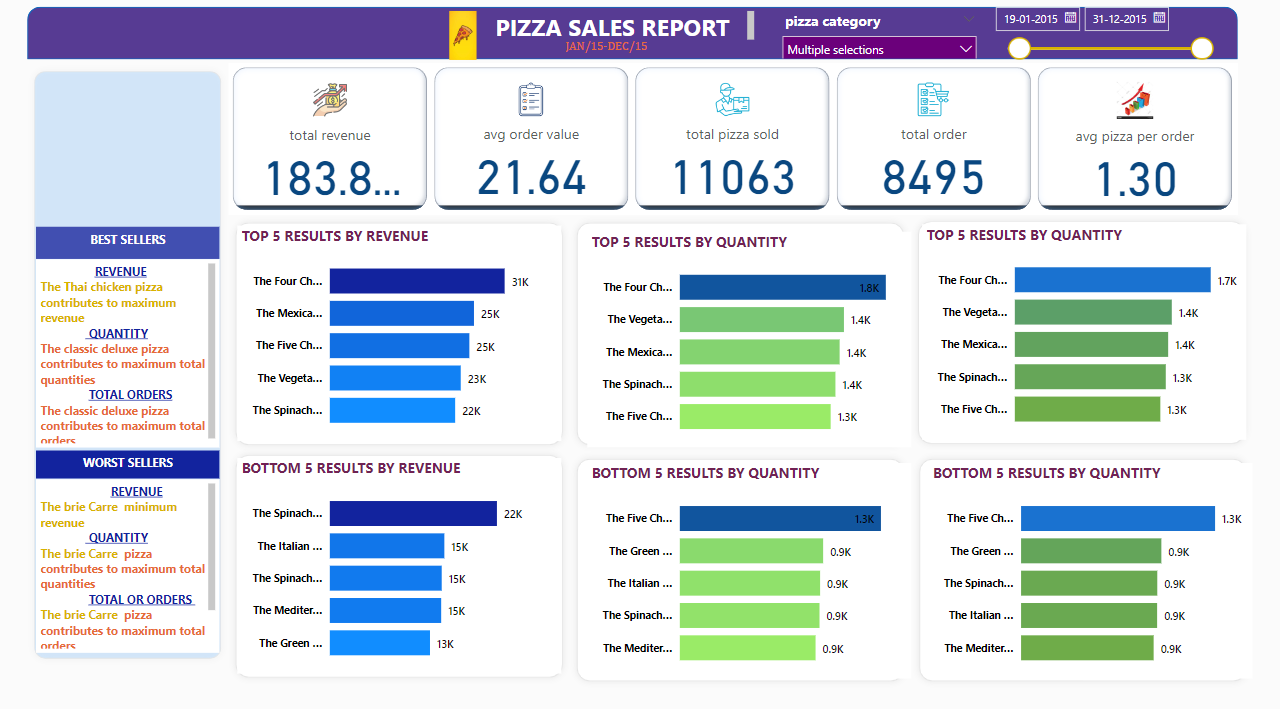

What the dashboard file says about the page in this screenshot:
{"tool":"powerbi","page":{"name":"best/worst sellers ","canvas":[1500,820],"ordinal":1},"visuals":[{"type":"cardVisual","fields":{"Data":["pizza_sales (2).total revenue","pizza_sales (2).avg order value","pizza_sales (2).total pizza sold","pizza_sales (2).total order","pizza_sales (2).avg pizza per order"]},"box":[288.7,74.6,1153.5,173.2],"z":0},{"type":"shape","box":[58.9,9.6,1383.6,60.3],"z":1000},{"type":"textbox","box":[589,9.6,305.5,43.8],"z":2000},{"type":"textbox","box":[668.5,39.7,138.4,30.1],"z":3000},{"type":"image","box":[532.9,9.6,46.6,65.8],"z":4000},{"type":"shape","box":[288.7,247.9,390.1,270.4],"z":5000},{"type":"shape","box":[59.2,76.1,229.6,687.3],"z":6000},{"type":"textbox","box":[69,262,209.9,36.6],"z":7000},{"type":"textbox","box":[69,298.6,209.9,215.5],"z":8000},{"type":"textbox","box":[69,516.9,209.9,32.4],"z":9000},{"type":"textbox","box":[69,549.3,209.9,198.6],"z":10000},{"type":"slicer","fields":{"Values":["pizza_sales (2).pizza_category"]},"box":[911.3,9.9,242.3,59.2],"z":11000},{"type":"slicer","fields":{"Values":["pizza_sales (2).order_date"]},"box":[1153.5,0,269,76.1],"z":12000},{"type":"shape","box":[678.9,247.9,390.1,270.4],"z":13000},{"type":"shape","box":[1069,246.5,390.1,270.4],"z":14000},{"type":"shape","box":[288.7,514.1,390.1,270.4],"z":15000},{"type":"shape","box":[678.9,518.3,390.1,270.4],"z":16000},{"type":"shape","box":[1070.4,518.3,390.1,270.4],"z":17000},{"type":"barChart","title":"TOP 5 RESULTS BY REVENUE","fields":{"Category":["pizza_sales (2).pizza_name"],"Y":["pizza_sales (2).total revenue"]},"box":[298.6,260.6,370.4,246.5],"z":18000},{"type":"barChart","title":"BOTTOM 5 RESULTS BY REVENUE","fields":{"Category":["pizza_sales (2).pizza_name"],"Y":["pizza_sales (2).total revenue"]},"box":[298.6,525.4,370.4,246.5],"z":19000},{"type":"barChart","title":"TOP 5 RESULTS BY QUANTITY","fields":{"Category":["pizza_sales (2).pizza_name"],"Y":["pizza_sales (2).total pizza sold"]},"box":[698.6,267.6,370.4,246.5],"z":20000},{"type":"barChart","title":"BOTTOM  5 RESULTS BY QUANTITY","fields":{"Category":["pizza_sales (2).pizza_name"],"Y":["pizza_sales (2).total pizza sold"]},"box":[698.6,531,370.4,246.5],"z":21000},{"type":"barChart","title":"TOP 5 RESULTS BY QUANTITY","fields":{"Category":["pizza_sales (2).pizza_name"],"Y":["pizza_sales (2).total order"]},"box":[1081.7,259.2,370.4,246.5],"z":22000},{"type":"barChart","title":"BOTTOM  5 RESULTS BY QUANTITY","fields":{"Category":["pizza_sales (2).pizza_name"],"Y":["pizza_sales (2).total order"]},"box":[1088.7,531,370.4,246.5],"z":23000}]}

Visuals, with their boxes in screenshot pixels (x1, y1, x2, y2), scaled from the page's 1500x820 canvas onto the 1280x709 screenshot:
cardVisual - pizza_sales (2).total revenue x pizza_sales (2).avg order value: (246, 65, 1231, 214)
shape: (50, 8, 1231, 60)
textbox: (503, 8, 763, 46)
textbox: (570, 34, 689, 60)
image: (455, 8, 495, 65)
shape: (246, 214, 579, 448)
shape: (51, 66, 246, 660)
textbox: (59, 227, 238, 258)
textbox: (59, 258, 238, 445)
textbox: (59, 447, 238, 475)
textbox: (59, 475, 238, 647)
slicer - pizza_sales (2).pizza_category: (778, 9, 984, 60)
slicer - pizza_sales (2).order_date: (984, 0, 1214, 66)
shape: (579, 214, 912, 448)
shape: (912, 213, 1245, 447)
shape: (246, 445, 579, 678)
shape: (579, 448, 912, 682)
shape: (913, 448, 1246, 682)
"TOP 5 RESULTS BY REVENUE" barChart: (255, 225, 571, 438)
"BOTTOM 5 RESULTS BY REVENUE" barChart: (255, 454, 571, 667)
"TOP 5 RESULTS BY QUANTITY" barChart: (596, 231, 912, 445)
"BOTTOM  5 RESULTS BY QUANTITY" barChart: (596, 459, 912, 672)
"TOP 5 RESULTS BY QUANTITY" barChart: (923, 224, 1239, 437)
"BOTTOM  5 RESULTS BY QUANTITY" barChart: (929, 459, 1245, 672)
